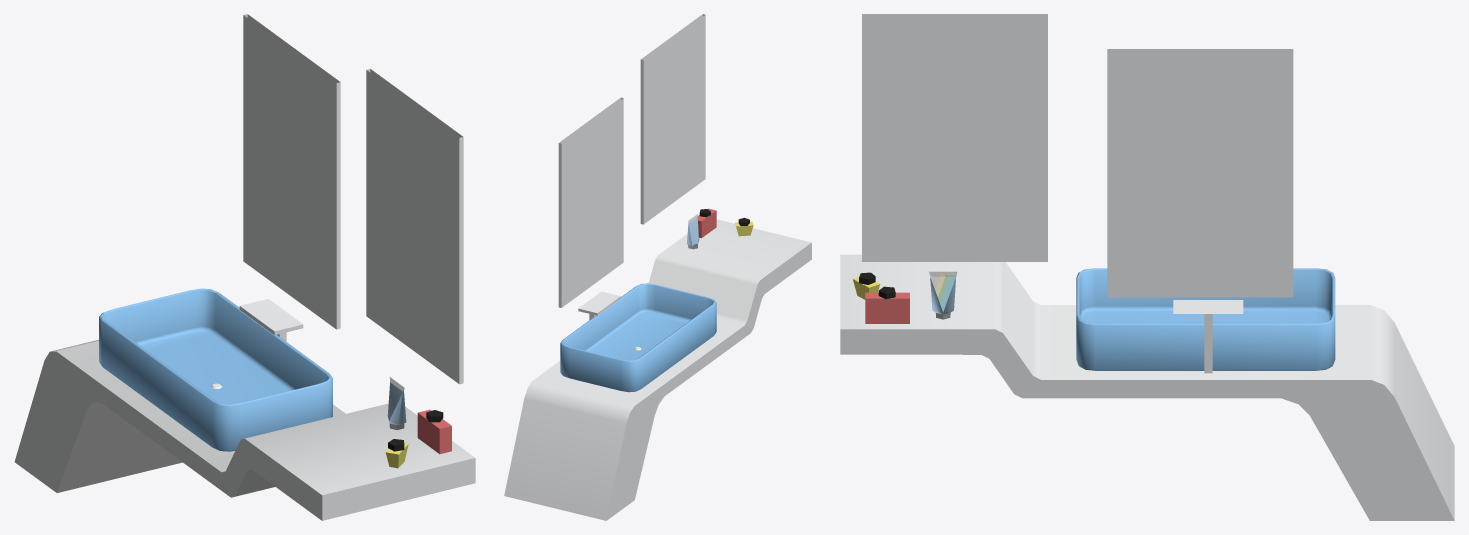
Rendered from M_BRxishutai02.FBX.
The picture shows the model from 3 angles, left to right: view 1: azimuth 30°, elevation 25°; view 2: azimuth 150°, elevation 25°; view 3: azimuth 270°, elevation 25°; orthographic projection. The views are drawn at different scales.
Visible parts, largest first — view 1: M_BRxishutai02_04, M_BRxishutai02_01, M_BRxishutai02_02, M_BRxishutai02_05, M_BRxishutai02_03; view 2: M_BRxishutai02_01, M_BRxishutai02_04, M_BRxishutai02_02, M_BRxishutai02_05, M_BRxishutai02_03; view 3: M_BRxishutai02_05, M_BRxishutai02_01, M_BRxishutai02_02, M_BRxishutai02_03, M_BRxishutai02_04.
Part boxes in pixels (bbox=[...]): M_BRxishutai02_04: bbox=[243, 15, 459, 383]; M_BRxishutai02_01: bbox=[14, 339, 475, 520]; M_BRxishutai02_02: bbox=[99, 288, 332, 451]; M_BRxishutai02_05: bbox=[239, 14, 463, 384]; M_BRxishutai02_03: bbox=[211, 299, 303, 388]; M_BRxishutai02_01: bbox=[504, 208, 811, 520]; M_BRxishutai02_04: bbox=[561, 15, 705, 307]; M_BRxishutai02_02: bbox=[560, 283, 716, 392]; M_BRxishutai02_05: bbox=[558, 14, 704, 315]; M_BRxishutai02_03: bbox=[578, 291, 641, 350]; M_BRxishutai02_05: bbox=[862, 16, 1293, 297]; M_BRxishutai02_01: bbox=[840, 254, 1454, 520]; M_BRxishutai02_02: bbox=[1076, 268, 1335, 370]; M_BRxishutai02_03: bbox=[1173, 300, 1243, 373]; M_BRxishutai02_04: bbox=[862, 14, 1293, 50].
Bounding box in the file's own units: 1 × 3.16 × 3.49.
